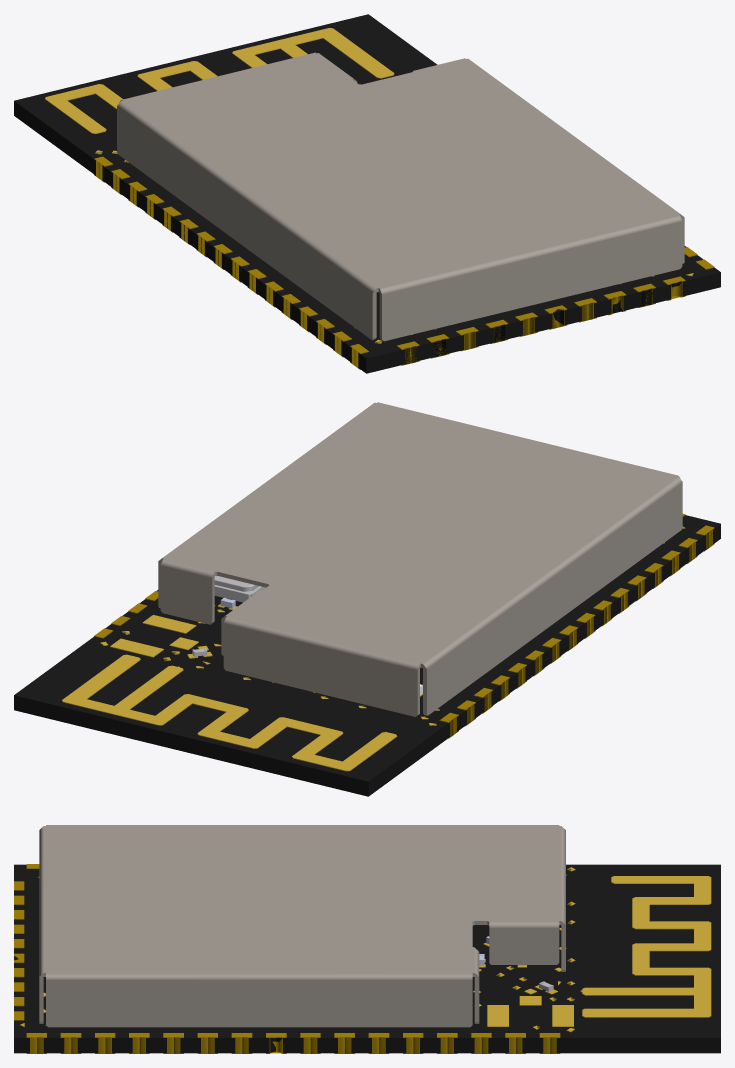
Rendered from esp-esp32-s2-wroom.glb.
3 views of the same model, one above another, from view 1: azimuth 30°, elevation 25°; view 2: azimuth 150°, elevation 25°; view 3: azimuth 270°, elevation 25° (orthographic).
Parts seen in each view (by area): view 1: 0.4166666666666667_0.3333333333333333_0.3333333333333333_0, 0_0_0_0, 0.4166666666666667_0.25_0_0, 0.6666666666666666_0.4166666666666667_0_0; view 2: 0.4166666666666667_0.3333333333333333_0.3333333333333333_0, 0_0_0_0, 0.6666666666666666_0.4166666666666667_0_0, 0.4166666666666667_0.25_0_0, 0.5833333333333334_0.5833333333333334_0.5833333333333334_0.8; view 3: 0.4166666666666667_0.3333333333333333_0.3333333333333333_0, 0_0_0_0, 0.6666666666666666_0.4166666666666667_0_0, 0.4166666666666667_0.25_0_0.
Boxes of the visible parts, box(x1,y1,x2,y2) form: 0.4166666666666667_0.3333333333333333_0.3333333333333333_0: box(117, 52, 684, 341); 0_0_0_0: box(14, 14, 720, 373); 0.4166666666666667_0.25_0_0: box(94, 156, 714, 369); 0.6666666666666666_0.4166666666666667_0_0: box(45, 28, 693, 343); 0.4166666666666667_0.3333333333333333_0.3333333333333333_0: box(158, 402, 682, 716); 0_0_0_0: box(14, 515, 720, 796); 0.6666666666666666_0.4166666666666667_0_0: box(62, 526, 685, 771); 0.4166666666666667_0.25_0_0: box(94, 513, 714, 738); 0.5833333333333334_0.5833333333333334_0.5833333333333334_0.8: box(192, 576, 265, 656); 0.4166666666666667_0.3333333333333333_0.3333333333333333_0: box(39, 825, 565, 1027); 0_0_0_0: box(14, 864, 720, 1053); 0.6666666666666666_0.4166666666666667_0_0: box(20, 867, 711, 1032); 0.4166666666666667_0.25_0_0: box(14, 864, 560, 1053).
Size of the model in its own units: 1.8 by 0.3299 by 3.1.
